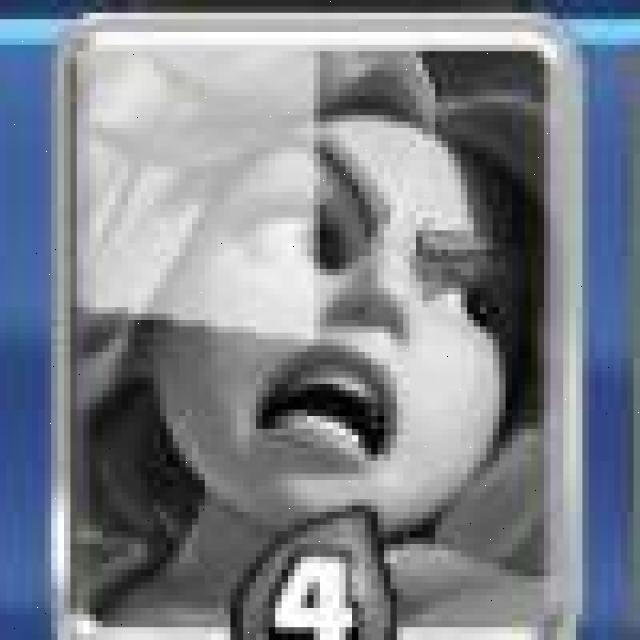Valkyrie: (56, 14, 578, 640)
